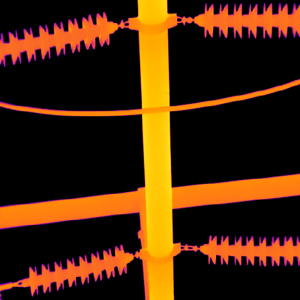insulator: (0, 4, 120, 66), (27, 241, 132, 298), (192, 1, 300, 41), (196, 233, 300, 266)
